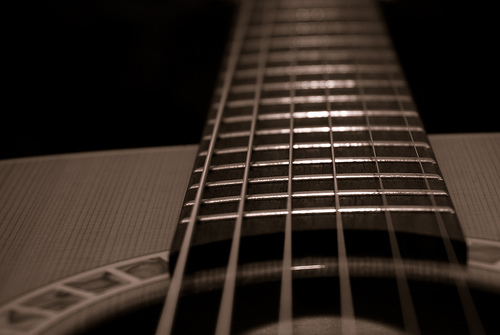guitar: (1, 1, 499, 335)
